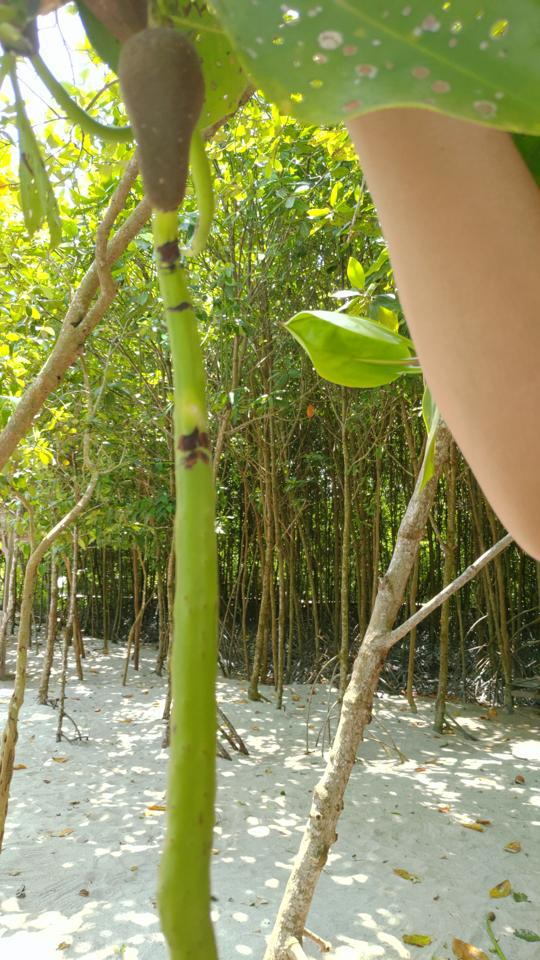setengah matang: (98, 14, 233, 959)
